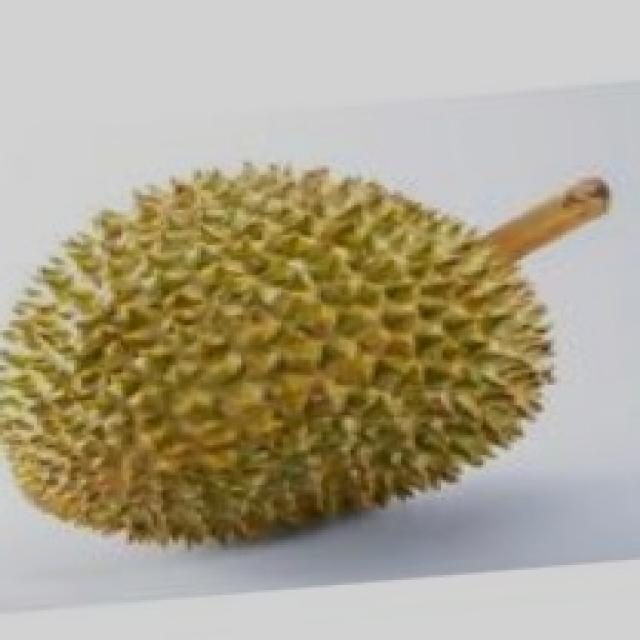fruit: (0, 190, 372, 595), (246, 163, 600, 565)
